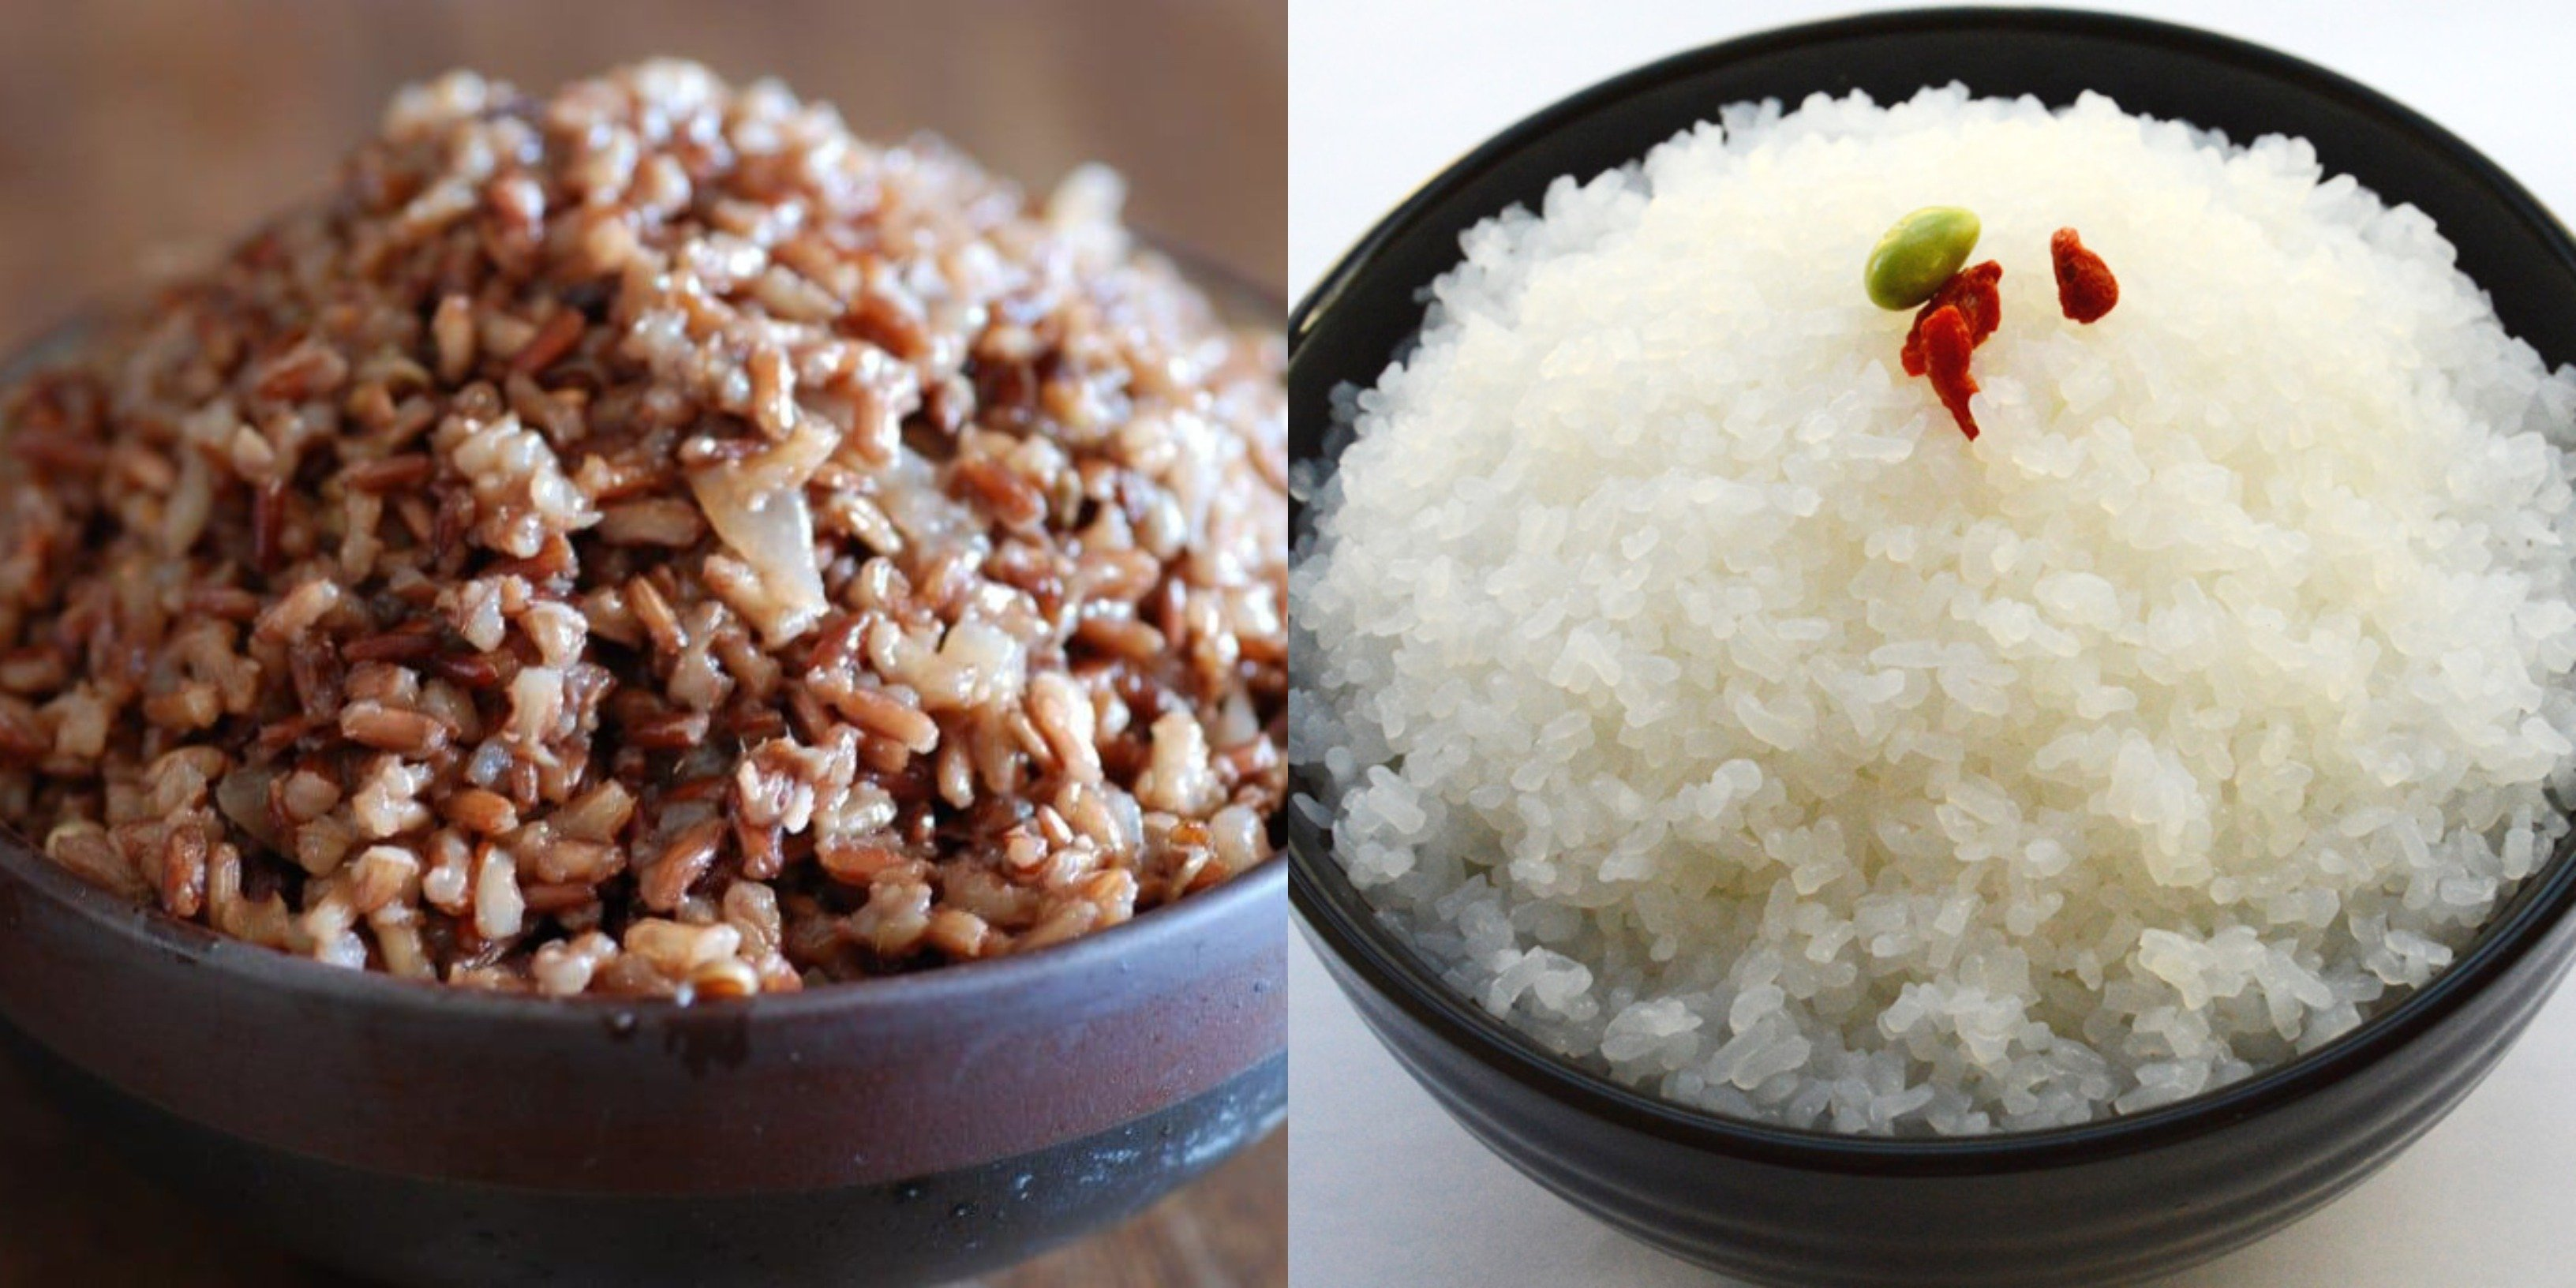Nasi Merah: (49, 67, 1283, 1122)
